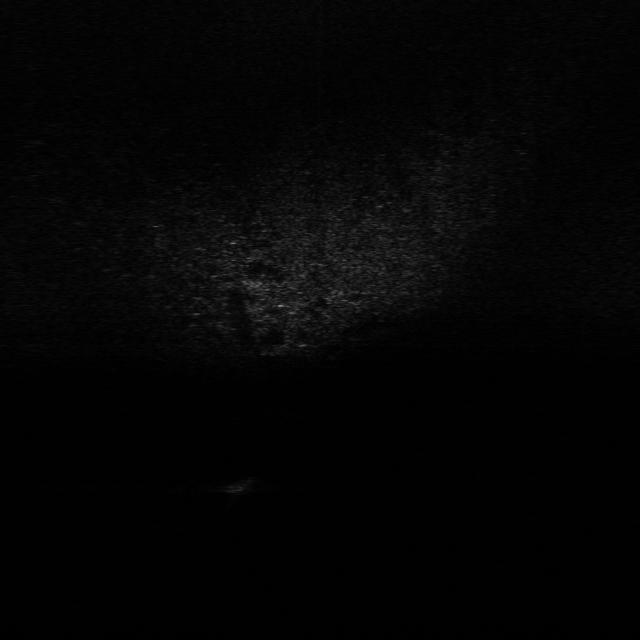cylinder: (223, 474, 258, 496)
